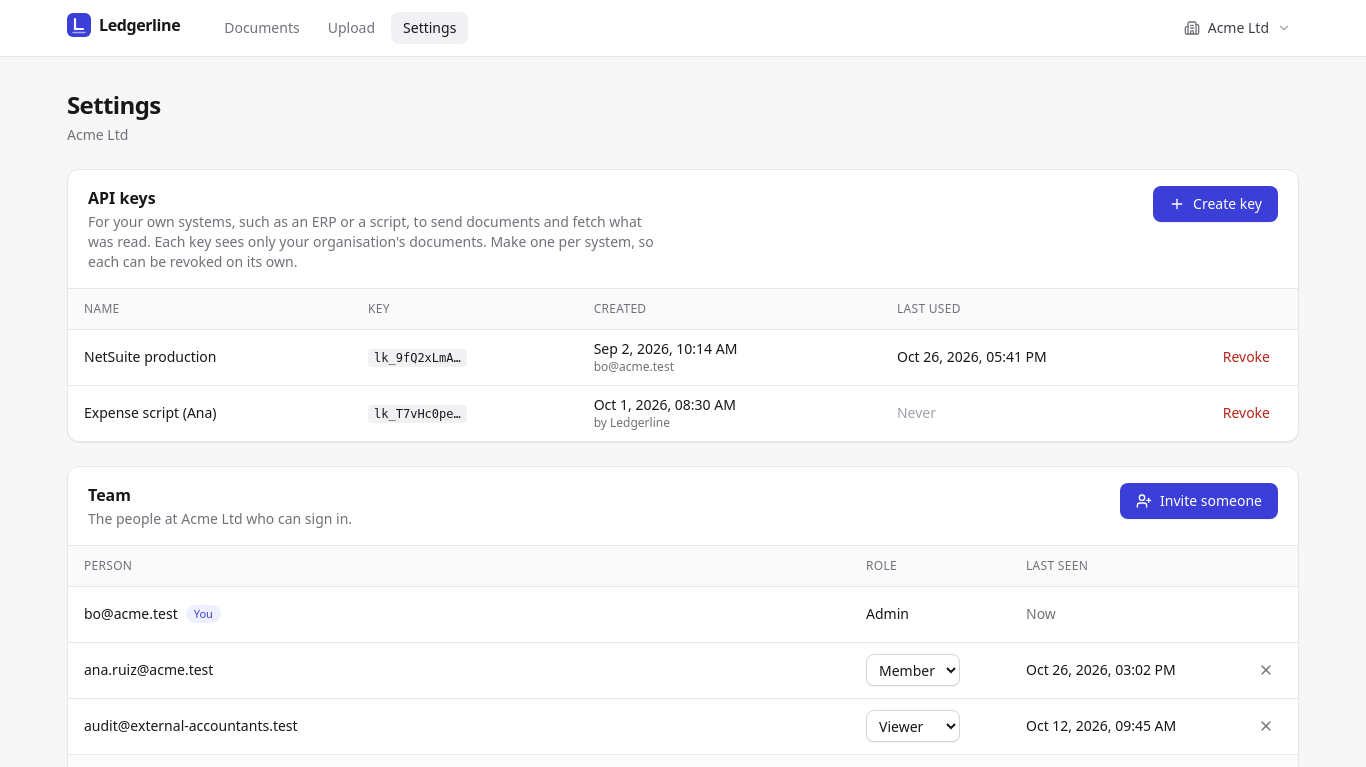
API keys › revokes a key after saying what that will break
Click the button with aria-label "Revoke NetSuite production": (1246, 357) x1=1211 y1=341 x2=1282 y2=373
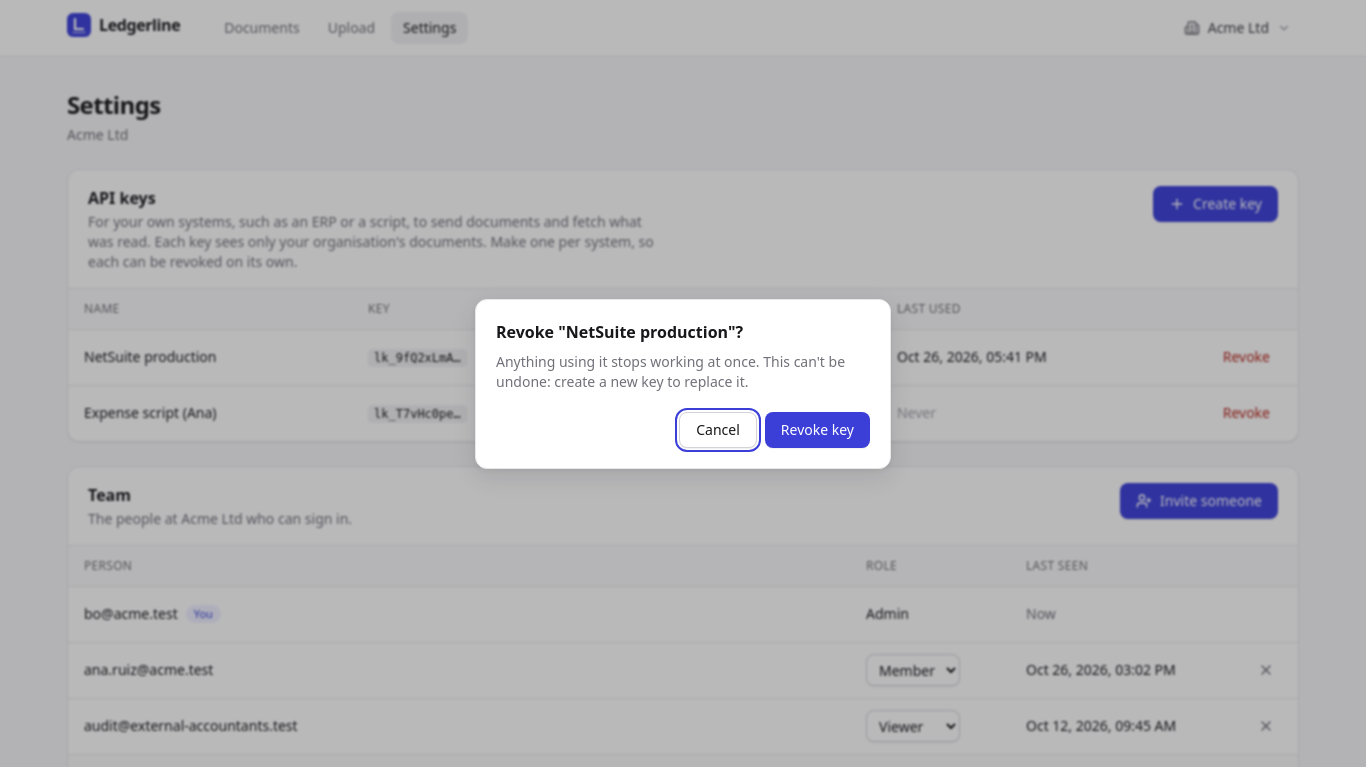
Expected: the dialog "Revoke \"NetSuite production\"?" shows "Anything using it stops working at once.", x1=496 y1=352 x2=845 y2=391
Click the button "Revoke key": (817, 430) x1=765 y1=412 x2=870 y2=448
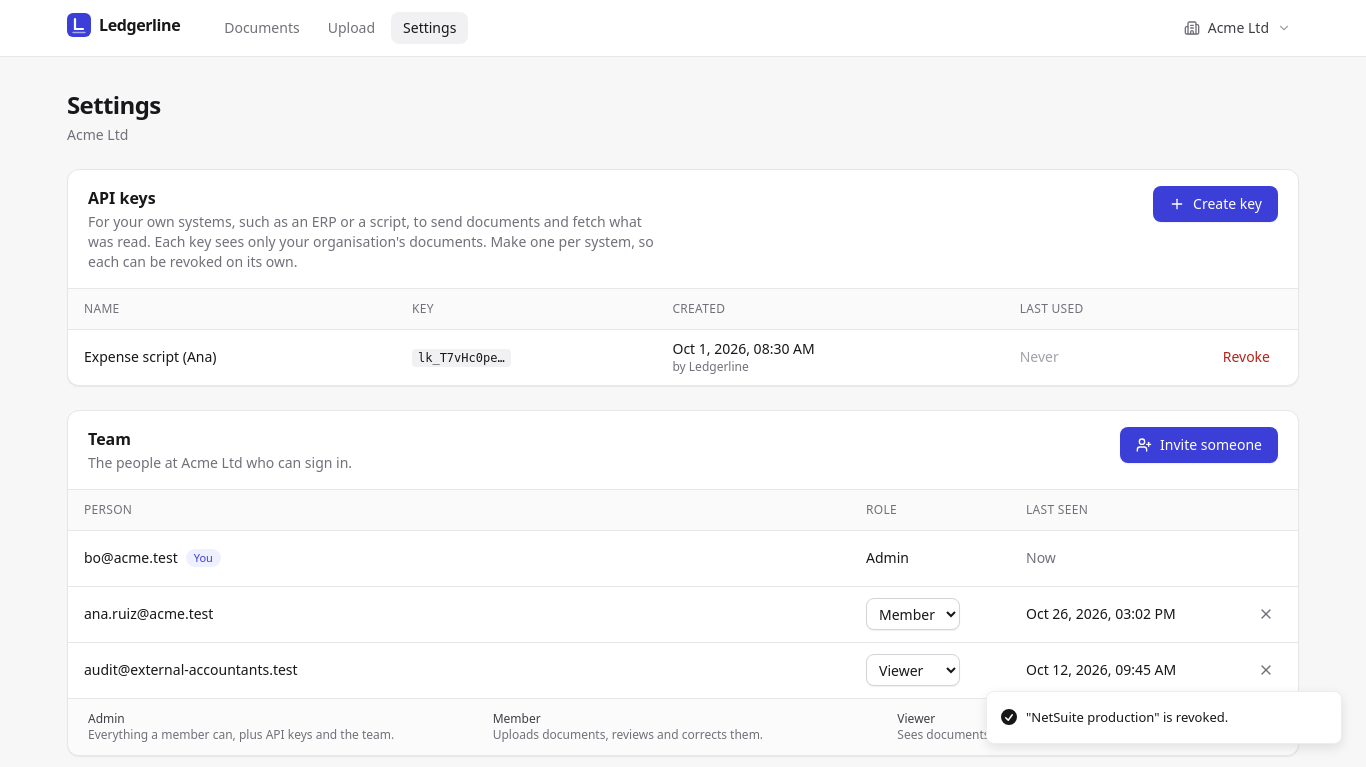
Expected: the text "\"NetSuite production\" is revoked." is shown, x1=1026 y1=708 x2=1228 y2=727
